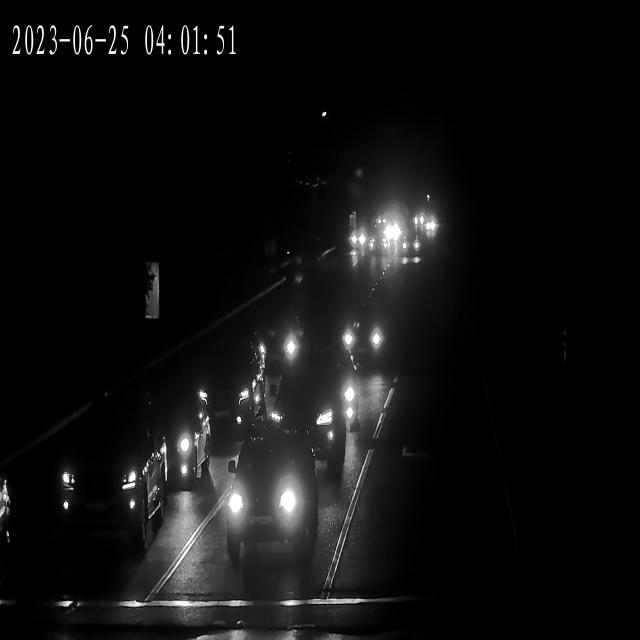Car: (48, 414, 162, 546), (216, 435, 319, 574), (108, 391, 214, 496), (273, 369, 342, 473), (189, 348, 270, 434), (249, 313, 304, 372), (340, 312, 392, 369), (345, 224, 381, 255), (375, 214, 403, 240), (393, 237, 422, 260), (410, 217, 438, 236), (379, 223, 404, 243)
